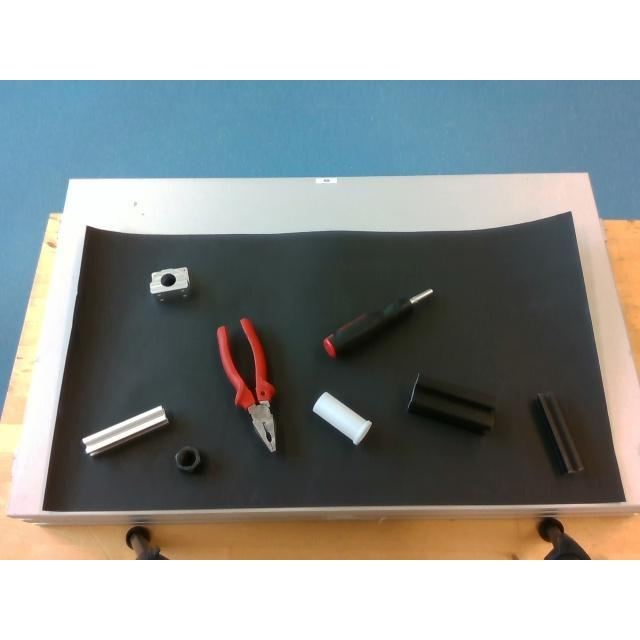F20_20_B: (535, 391, 583, 474)
F20_20_G: (82, 406, 168, 454)
M20: (174, 446, 200, 470)
S40_40_B: (408, 374, 496, 434)
Spacer: (313, 392, 371, 444)
